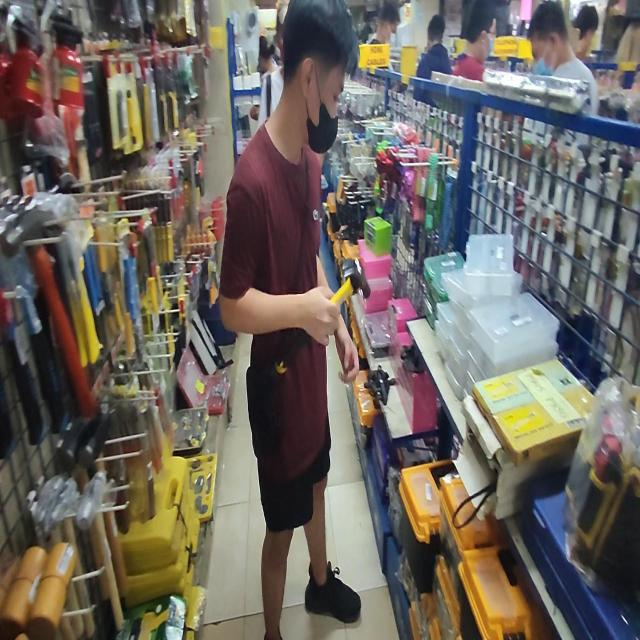hammer: (273, 258, 371, 376)
